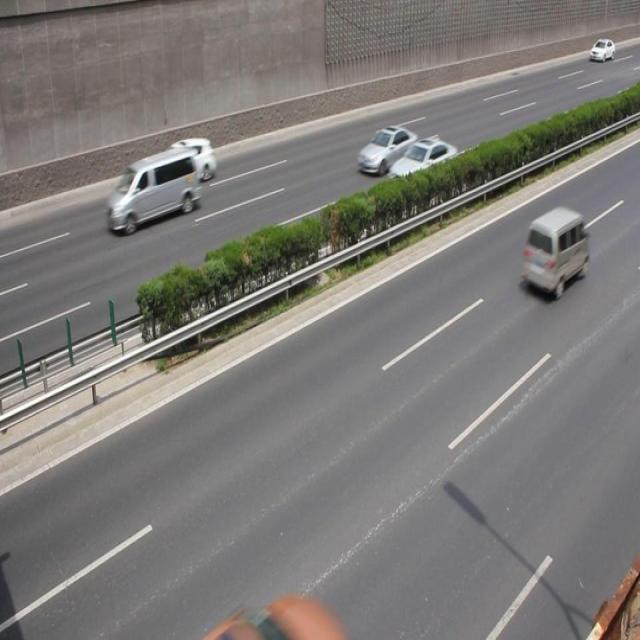car: (388, 137, 457, 197), (158, 136, 215, 191), (356, 126, 416, 178)
truck: (104, 144, 200, 236), (520, 207, 587, 301)
